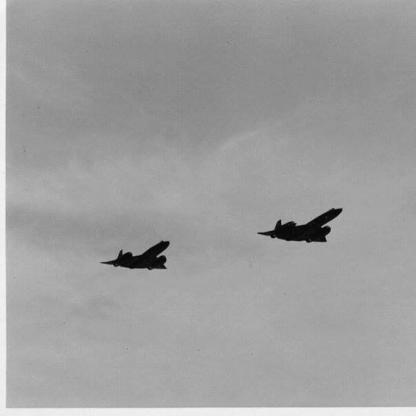SR71: (257, 208, 344, 244), (101, 240, 172, 272)
